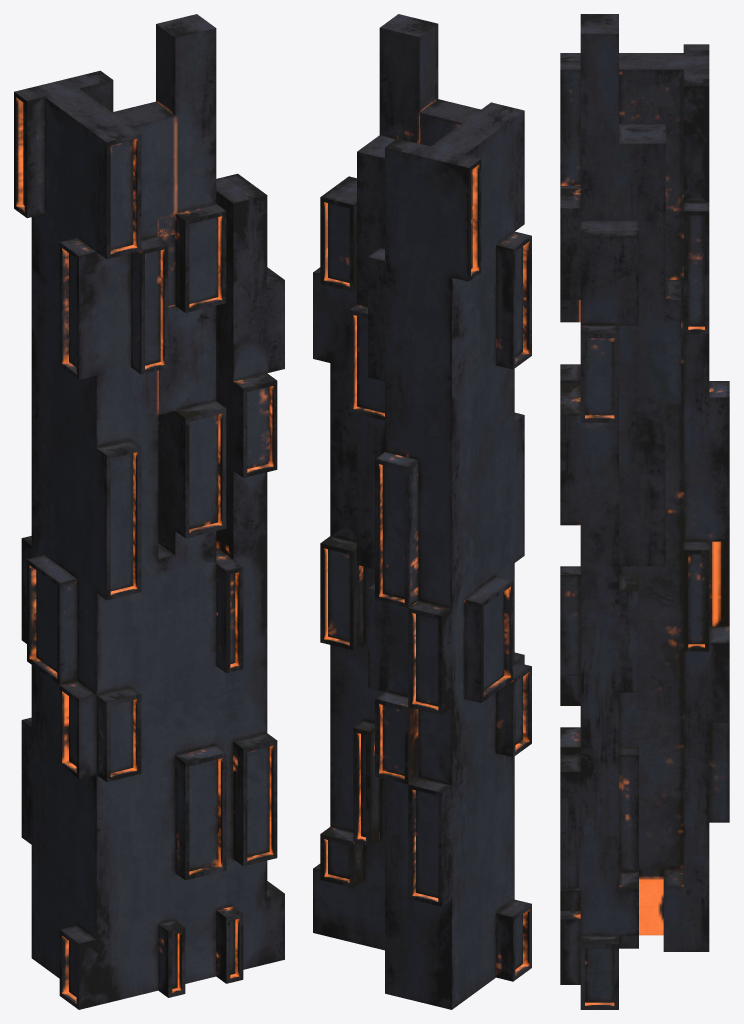
3 renders of one model, left to right at view 1: azimuth 30°, elevation 25°; view 2: azimuth 150°, elevation 25°; view 3: azimuth 270°, elevation 25°, orthographic. The views are drawn at different scales.
Parts seen in each view (by area): view 1: SB_07; view 2: SB_07; view 3: SB_07.
Part boxes in pixels (x1,y1,x2,y2): SB_07: (14,14,284,1009); SB_07: (313,14,531,1009); SB_07: (560,14,729,1009).
Size of the model in its own units: 1792 by 7889 by 1283.
1 material, 1 textured.
